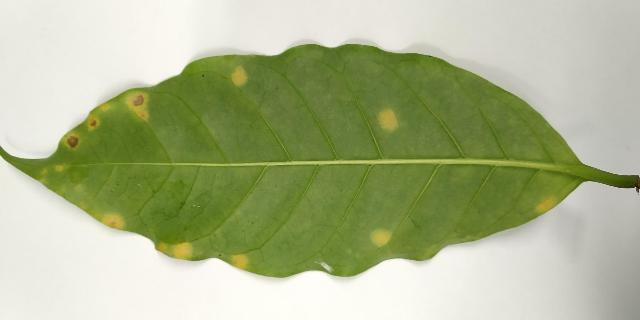miner: (78, 202, 126, 231), (33, 168, 71, 201), (82, 101, 112, 131), (123, 88, 150, 121), (156, 241, 193, 260), (58, 128, 83, 150), (535, 195, 558, 214), (230, 253, 250, 271), (380, 110, 397, 130), (372, 230, 391, 247), (231, 67, 247, 86), (54, 163, 67, 171), (639, 184, 640, 186)
